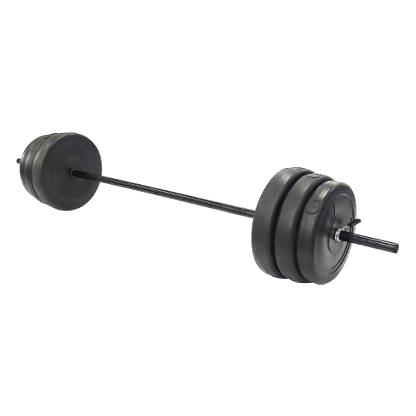Barbell: (386, 237, 411, 260)
